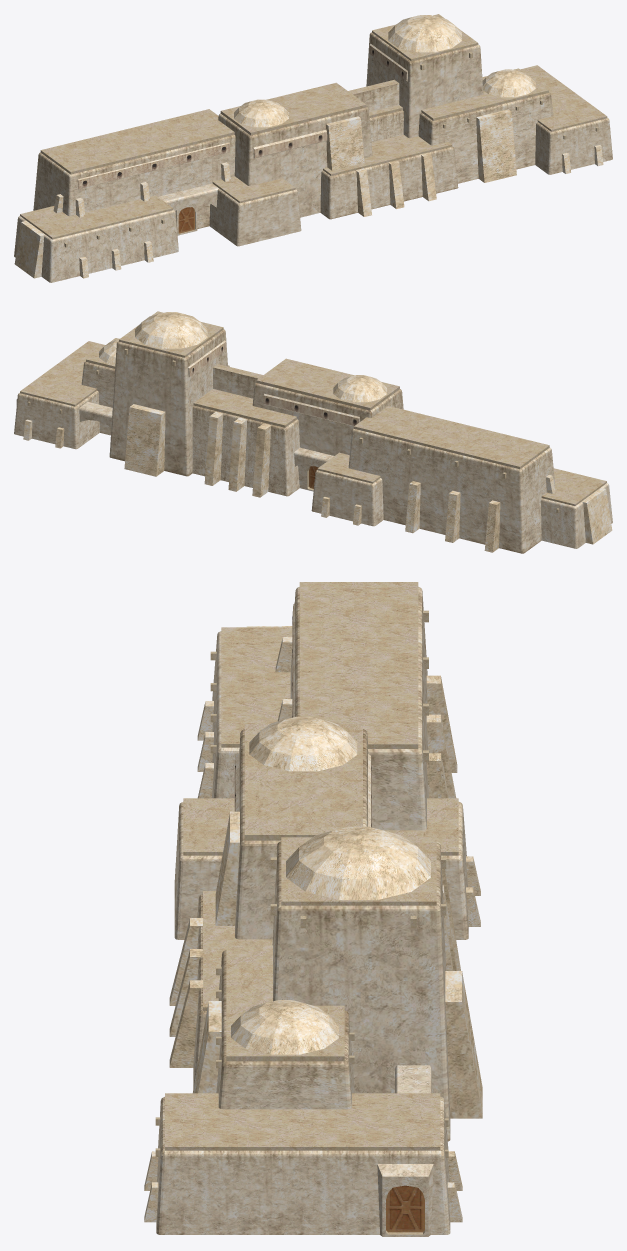
The model's file is thm_tato_block_bldg_64x16_s01_l0.fbx.
3 views of the same model, one above another, from view 1: azimuth 30°, elevation 25°; view 2: azimuth 150°, elevation 25°; view 3: azimuth 270°, elevation 25° (orthographic). The views are drawn at different scales.
Visible parts, largest first — view 1: mesh_node; view 2: mesh_node; view 3: mesh_node.
Boxes of the visible parts, bbox=[...] form: mesh_node: bbox=[14, 14, 612, 282]; mesh_node: bbox=[14, 311, 612, 553]; mesh_node: bbox=[144, 582, 482, 1236].
Size of the model in its own units: 69.15 by 16.09 by 18.41.
